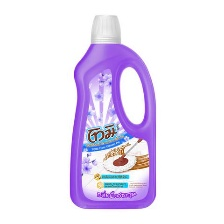cleaning_solution: (70, 12, 157, 211)
